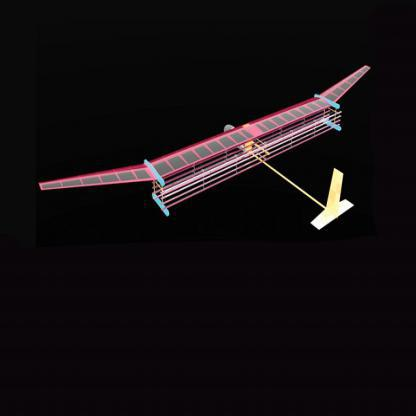CIV_Plane: (34, 61, 373, 241)
